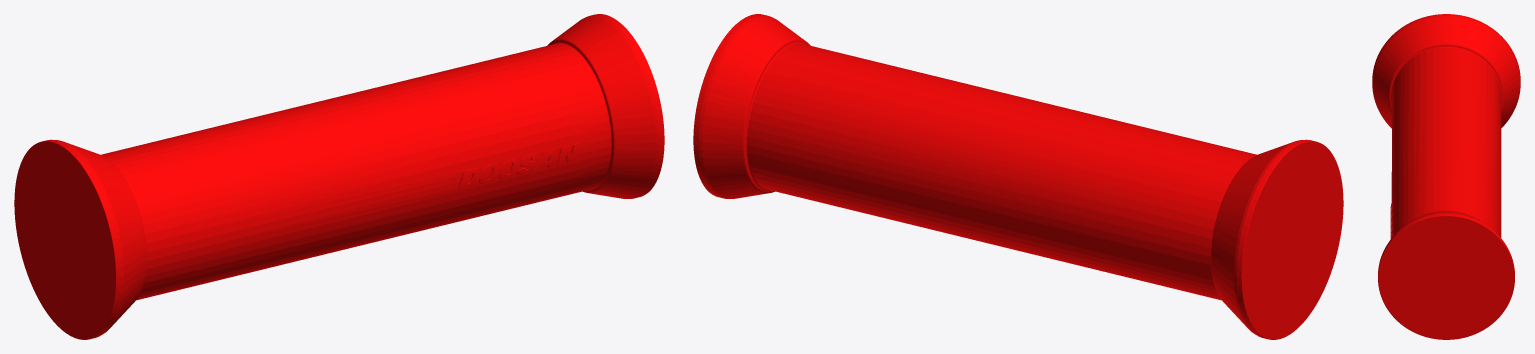
3 renders of one model, left to right at view 1: azimuth 30°, elevation 25°; view 2: azimuth 150°, elevation 25°; view 3: azimuth 270°, elevation 25°, orthographic. The views are drawn at different scales.
Visible parts, largest first — view 1: H2515_2_1, Doosan_Mark; view 2: H2515_2_1; view 3: H2515_2_1.
Part boxes in pixels (left/top/right/bottom): H2515_2_1: left=14, top=14, right=664, bottom=339; Doosan_Mark: left=459, top=142, right=581, bottom=189; H2515_2_1: left=693, top=14, right=1343, bottom=339; H2515_2_1: left=1372, top=14, right=1520, bottom=339.
Size of the model in its own units: 519 by 166 by 166.
